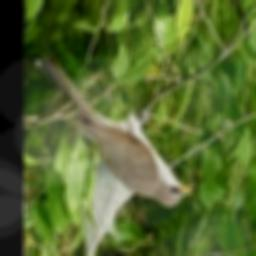Cuckoo: (41, 51, 197, 208)
